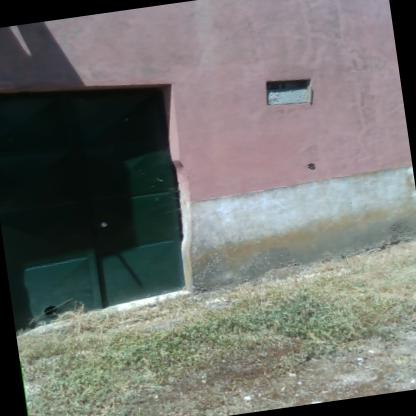closed: (0, 57, 221, 335)
